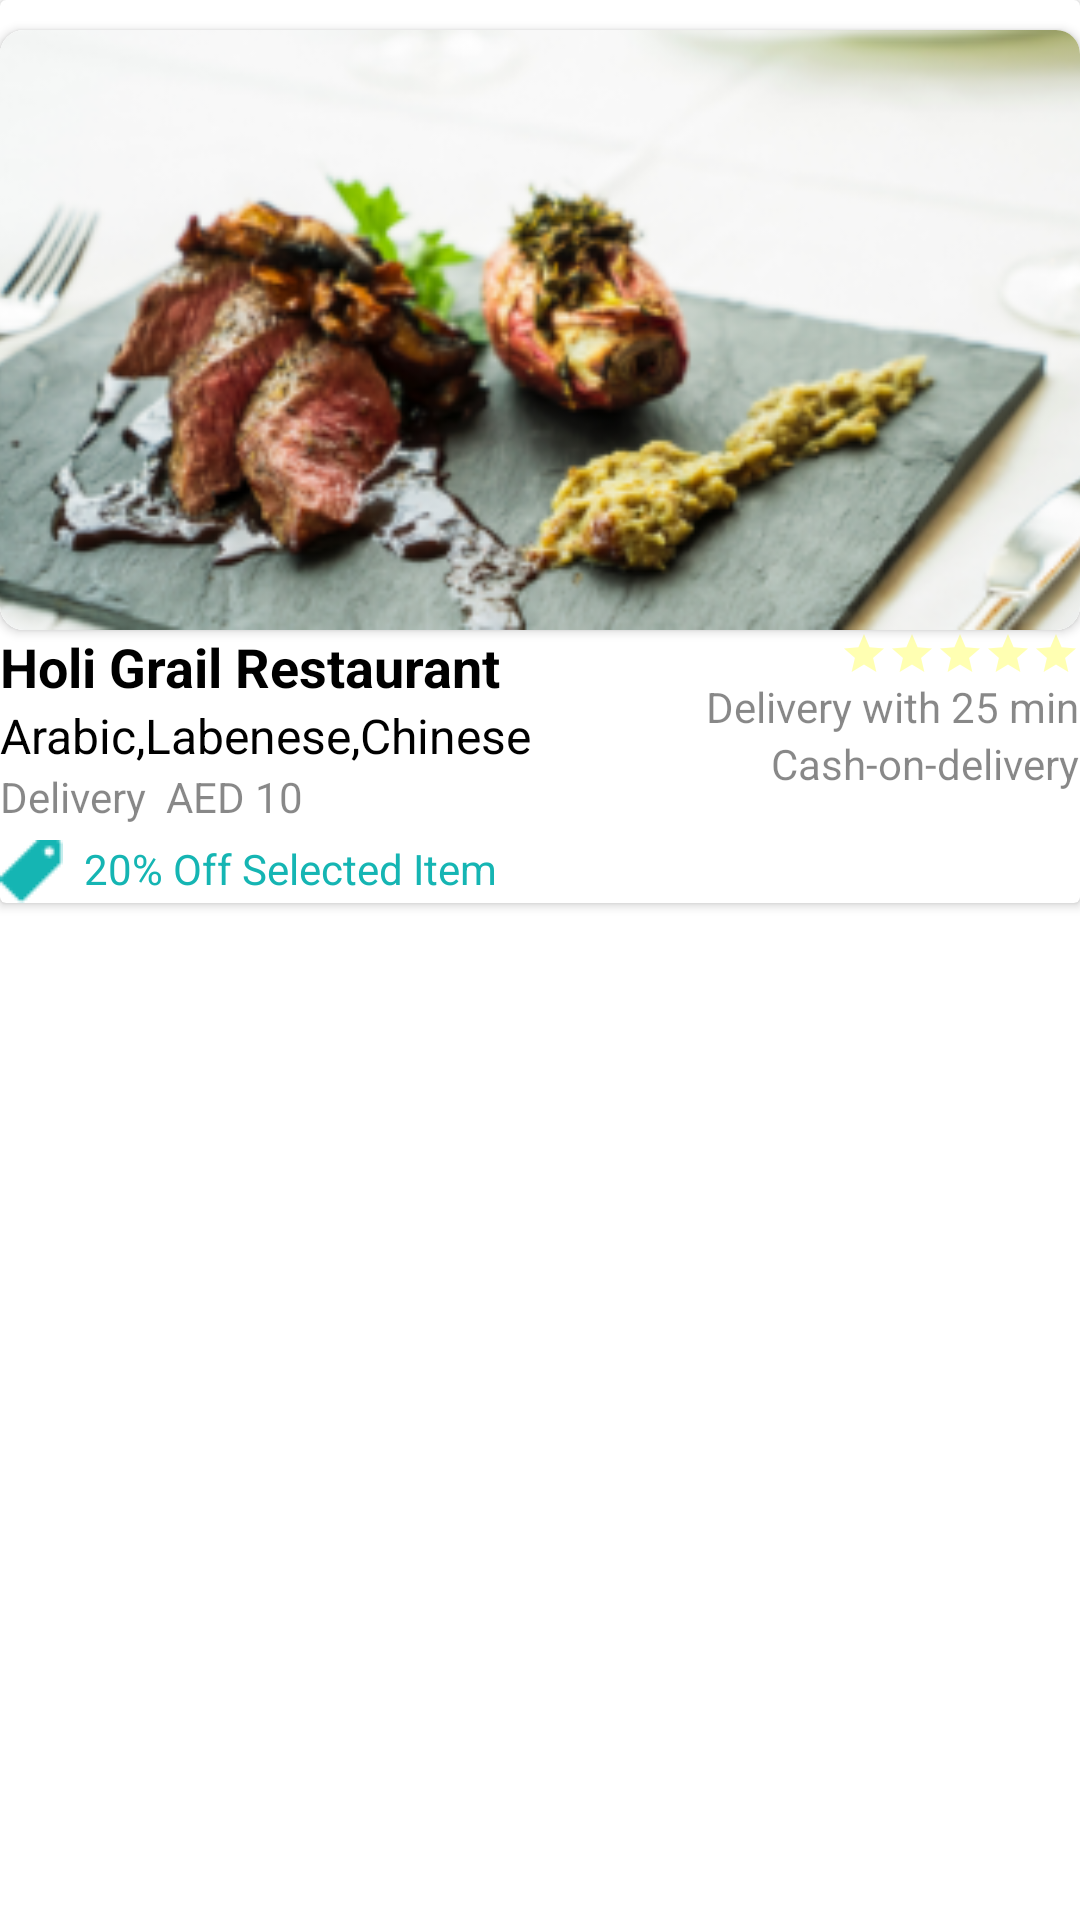

Icon click points for this 1080 x 1920 phone screenshot, format point (x, y):
tag: point (31, 871)
